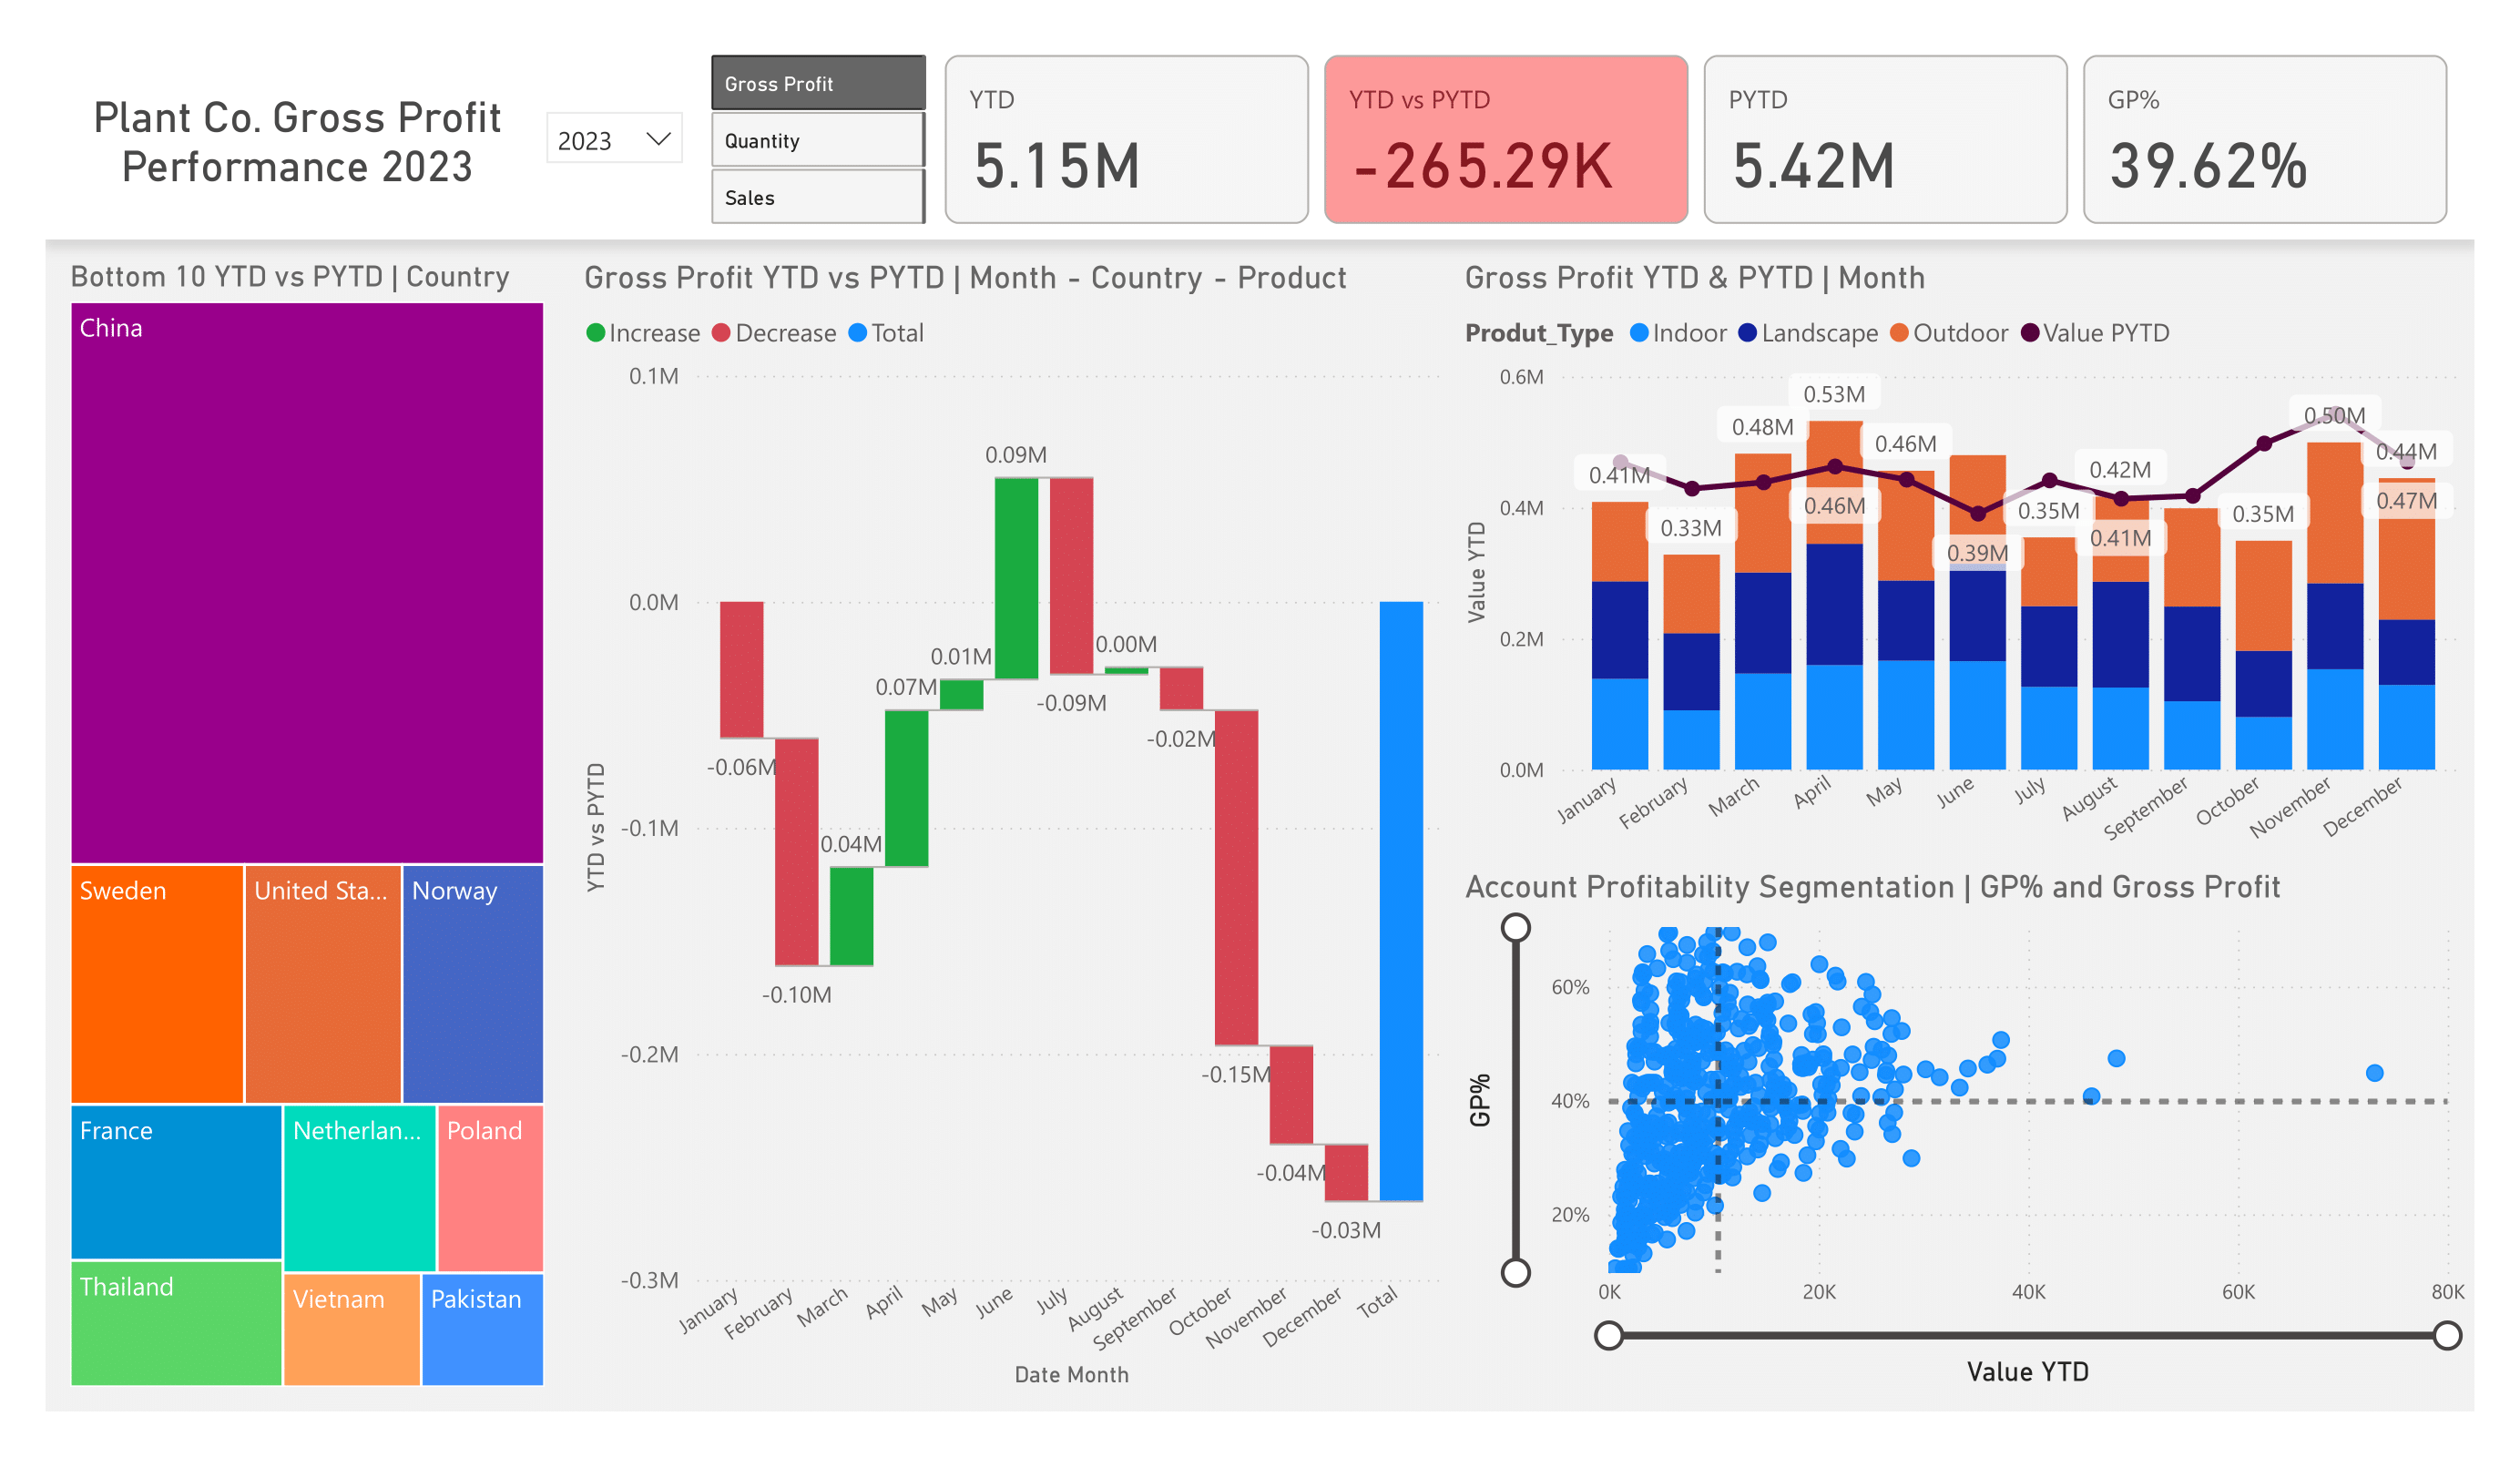

This screenshot's page, from the dashboard's own definition file:
{"tool":"powerbi","page":{"name":"Performance Report","canvas":[1280,720],"ordinal":0},"visuals":[{"type":"cardVisual","fields":{"Data":["_Measures.S_YTD","_Measures.YTD vs PYTD","_Measures.S_PYTD","_Measures.GP%"]},"box":[468.9,0,803.5,98.8],"z":0},{"type":"advancedSlicerVisual","fields":{"Values":["Slc_Values.Values"]},"box":[345.6,0,123,98.8],"z":1000},{"type":"slicer","fields":{"Values":["Dim_Date.Date.Variation.Date Hierarchy.Year"]},"box":[254.1,25.1,91.6,47.6],"z":2000},{"type":"treemap","title":"Bottom 10 YTD vs PYTD | Country","fields":{"Group":["Dim_Account.country"],"Values":["_Measures.YTD vs PYTD"]},"box":[7.7,112.2,260.8,600.2],"z":3000},{"type":"waterfallChart","fields":{"Category":["Dim_Date.Date.Variation.Date Hierarchy.Month","Dim_Account.country","Dim_Product.Produt_Type","Dim_Product.Product_Name"],"Y":["_Measures.YTD vs PYTD"]},"box":[279,112.2,464.1,600.2],"z":4000},{"type":"lineStackedColumnComboChart","fields":{"Y":["_Measures.S_YTD"],"Y2":["_Measures.S_PYTD"],"Category":["Dim_Date.Date.Variation.Date Hierarchy.Quarter","Dim_Date.Date.Variation.Date Hierarchy.Month"],"Series":["Dim_Product.Produt_Type"]},"box":[743.1,112.2,536.9,321.2],"z":5000},{"type":"scatterChart","fields":{"Y":["_Measures.GP%"],"X":["_Measures.S_YTD"],"Category":["Dim_Account.Account"]},"box":[743.1,433.4,536.9,279],"z":6000},{"type":"card","fields":{"Values":["_Measures.Report_title"]},"box":[0,0,260.3,98.8],"z":7000}]}

Visuals, with their boxes in screenshot pixels (x1, y1, x2, y2):
cardVisual - _Measures.S_YTD x _Measures.YTD vs PYTD: locate(935, 46, 2460, 233)
advancedSlicerVisual - Slc_Values.Values: locate(701, 46, 934, 233)
slicer - Dim_Date.Date.Variation.Date Hierarchy.Year: locate(527, 93, 701, 183)
"Bottom 10 YTD vs PYTD | Country" treemap: locate(60, 259, 555, 1397)
waterfallChart - Dim_Date.Date.Variation.Date Hierarchy.Month x Dim_Account.country: locate(575, 259, 1455, 1397)
lineStackedColumnComboChart - _Measures.S_YTD x _Measures.S_PYTD: locate(1455, 259, 2474, 868)
scatterChart - _Measures.GP% x _Measures.S_YTD: locate(1455, 868, 2474, 1397)
card - _Measures.Report_title: locate(46, 46, 539, 233)
